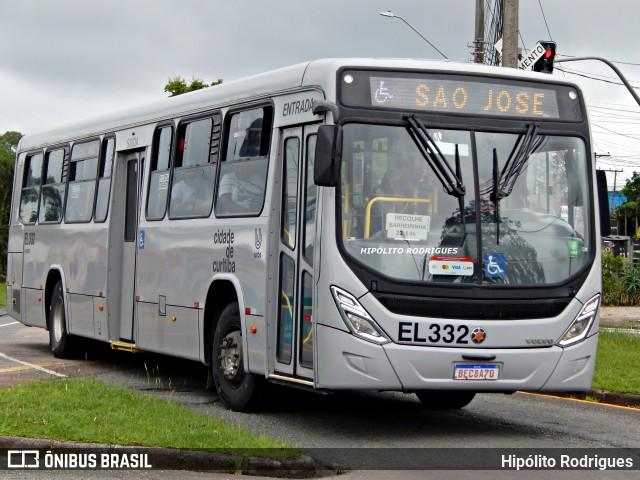SAO JOSE: (408, 80, 551, 118)
